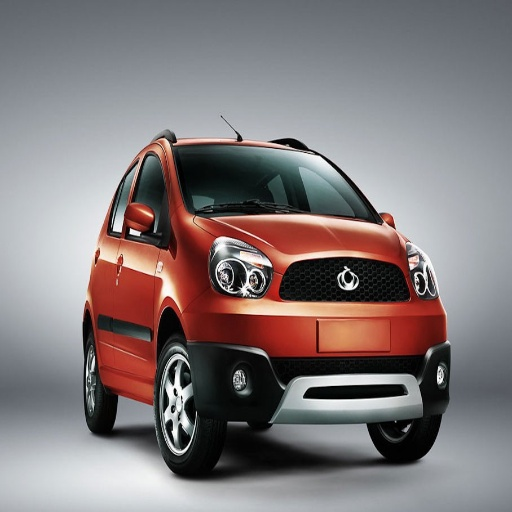front_bumper: (197, 254, 439, 421)
front_glass: (174, 144, 374, 220)
front_right_door: (115, 141, 171, 380)
front_right_light: (215, 240, 270, 295)
